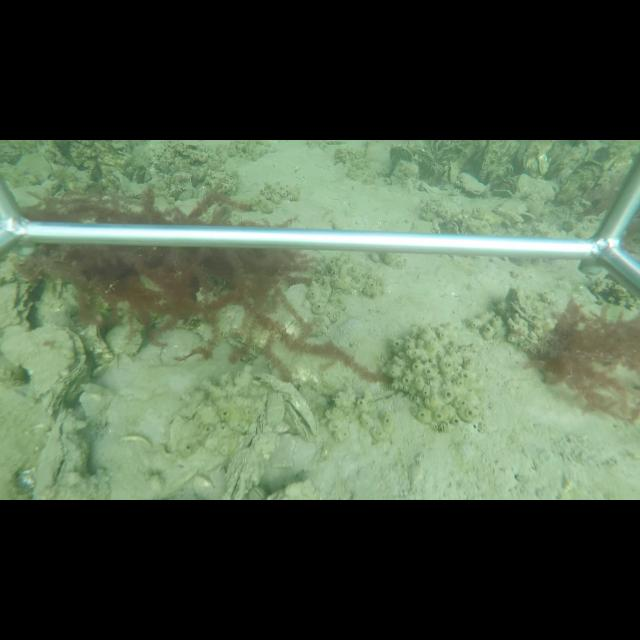Oyster-Closed: (4, 323, 89, 418), (33, 409, 79, 500), (223, 448, 267, 500), (106, 320, 144, 357), (513, 172, 555, 203), (455, 172, 487, 196)
Oyster-Open: (283, 384, 319, 439)
